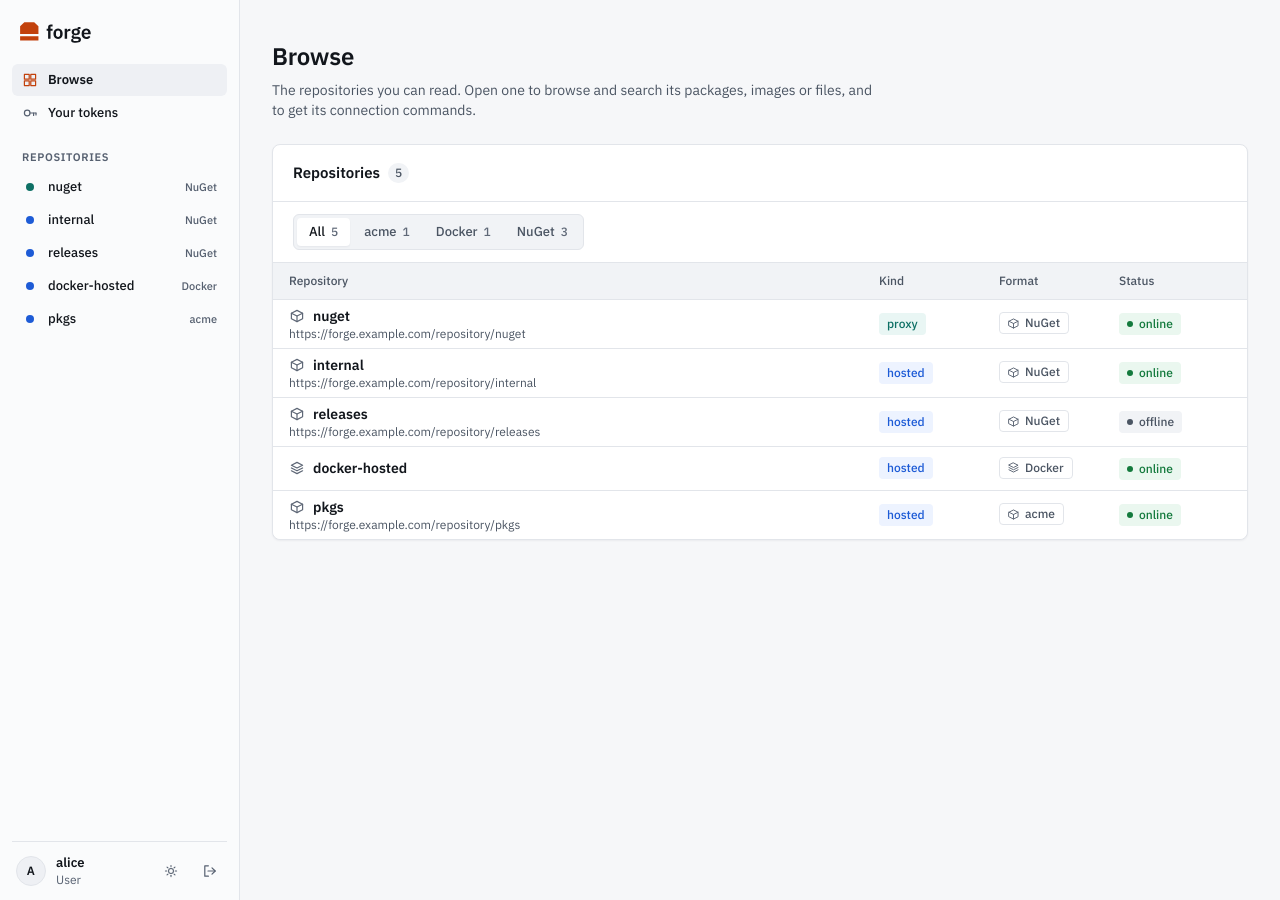
Scenario: Browse root (repository folders) › filters the repositories by format, in the URL
Expected: the radio button labelled "All 5" is checked, [297,218,350,246]
Click the radio button labelled "acme 1": (387, 232) [352,218,422,246]
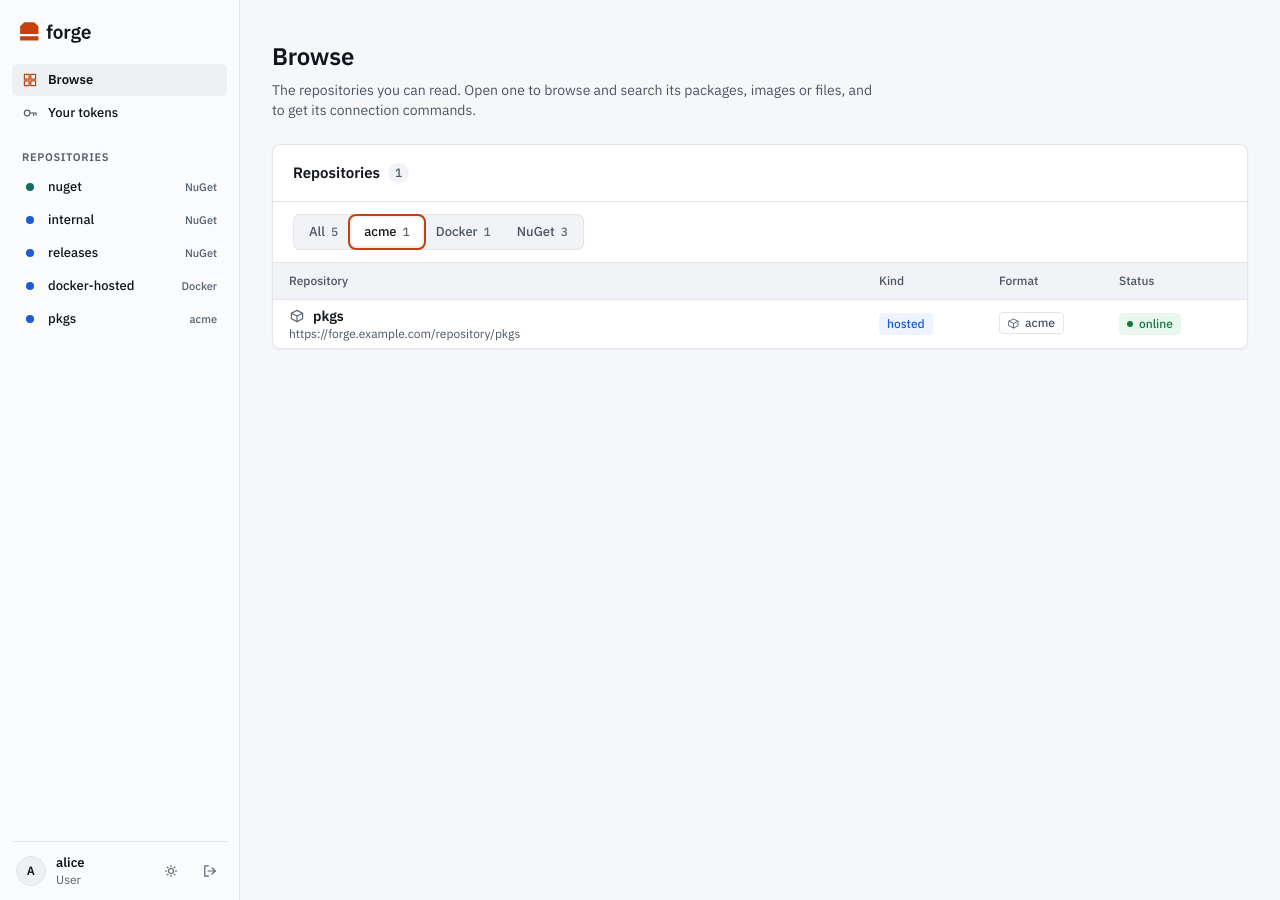
Expected: the link "pkgs" is shown, [289,306,344,324]
Result: the radio button labelled "acme 1" is checked at [352,218,422,246]
Click the radio button labelled "All 5": (324, 232) [297,218,350,246]
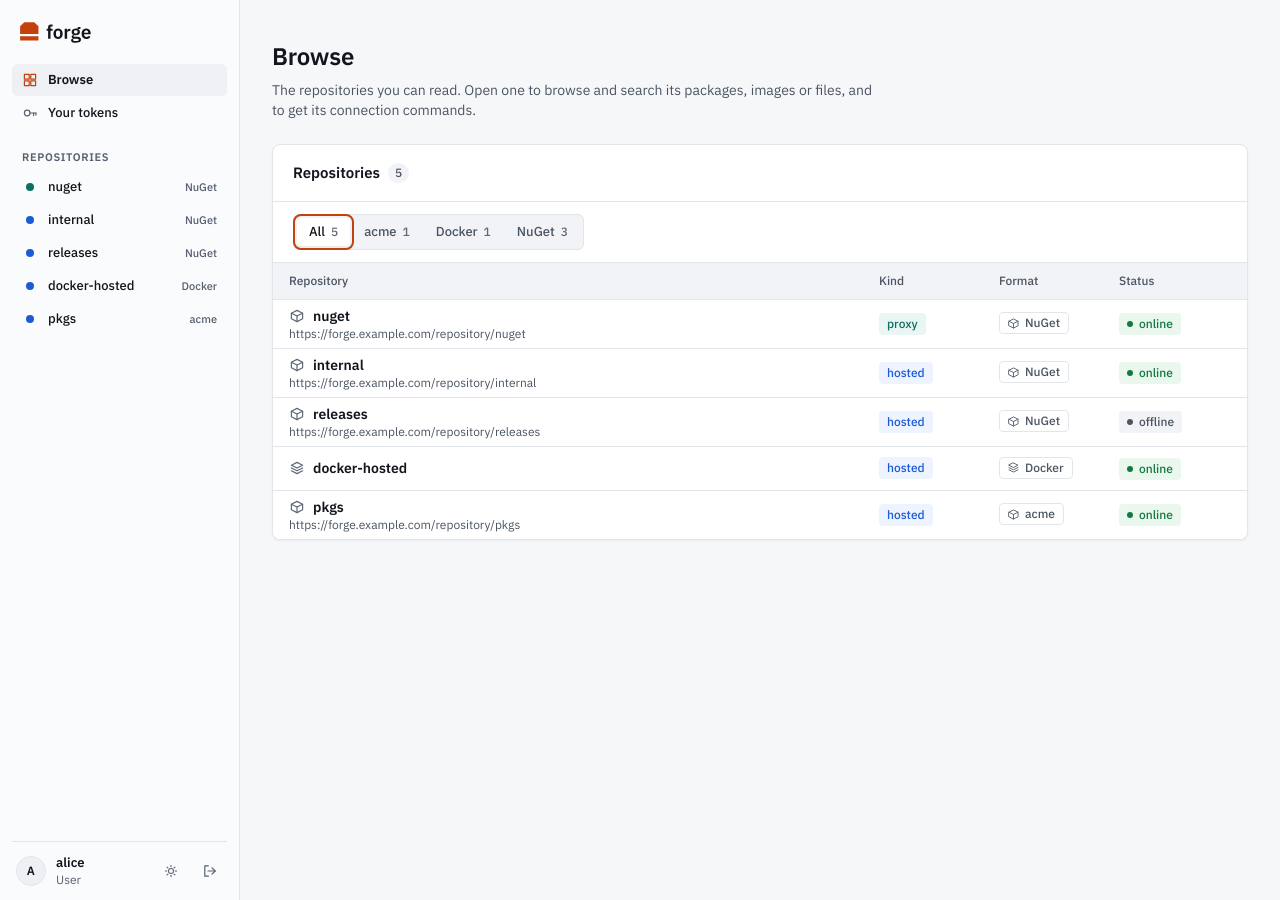
Result: the link "internal" is shown at [289,356,364,374]
